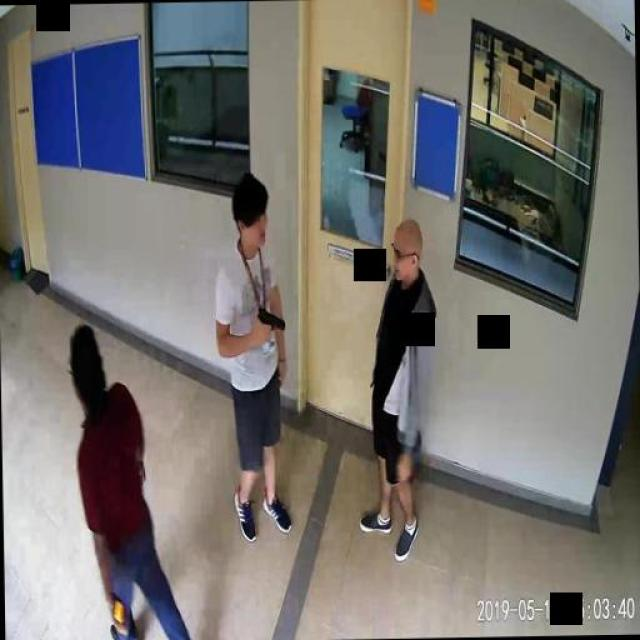gun: (255, 305, 284, 340)
